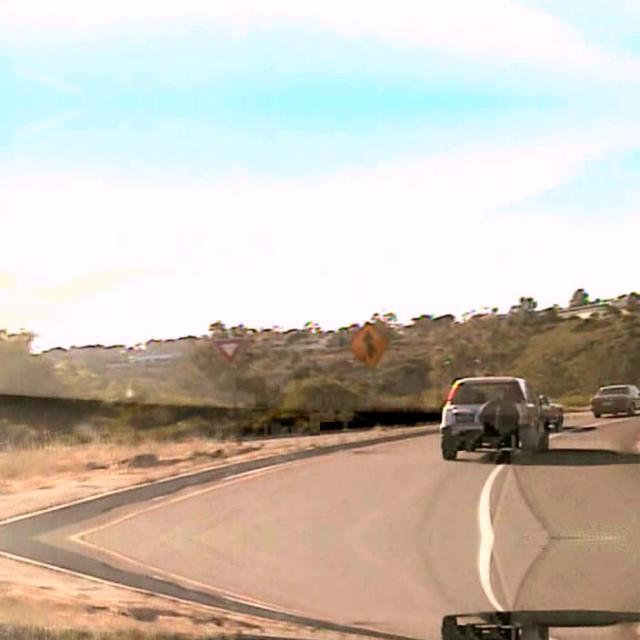yield: (212, 336, 242, 360)
